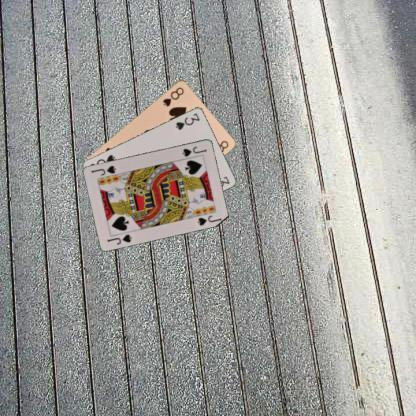3s: (173, 110, 201, 132)
8s: (160, 84, 185, 108)
Js: (180, 144, 209, 158), (104, 232, 133, 246)
